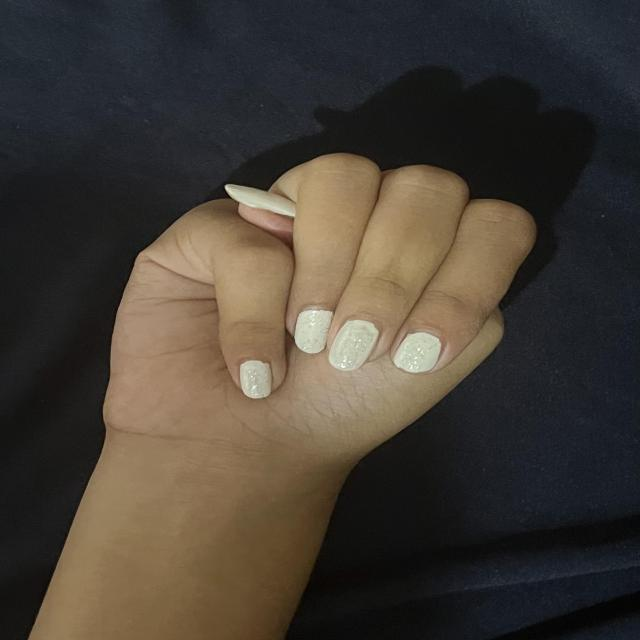M: (101, 152, 538, 453)
